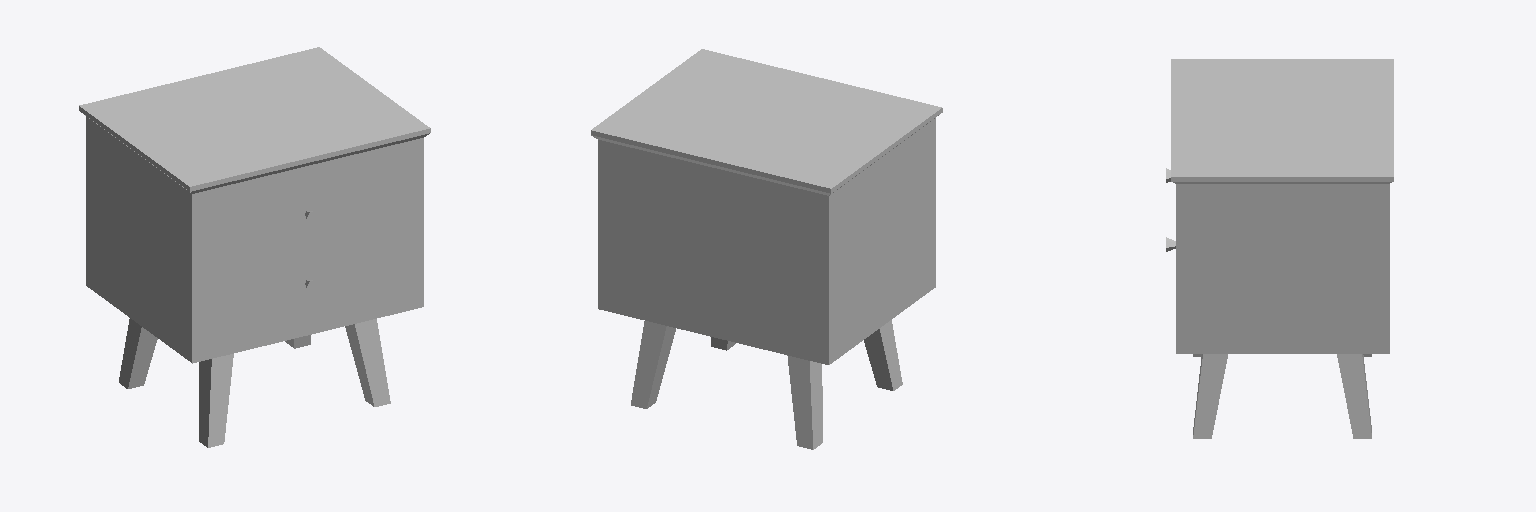
Rendered from bed table.obj.
3 renders of one model, left to right at view 1: azimuth 30°, elevation 25°; view 2: azimuth 150°, elevation 25°; view 3: azimuth 270°, elevation 25°, orthographic.
Parts seen in each view (by area): view 1: Nightstand.002; view 2: Nightstand.002; view 3: Nightstand.002.
Part boxes in pixels (bbox=[...]): Nightstand.002: bbox=[79, 47, 430, 447]; Nightstand.002: bbox=[591, 49, 942, 449]; Nightstand.002: bbox=[1166, 59, 1393, 438].
Size of the model in its own units: 0.52 by 0.57 by 0.4257.